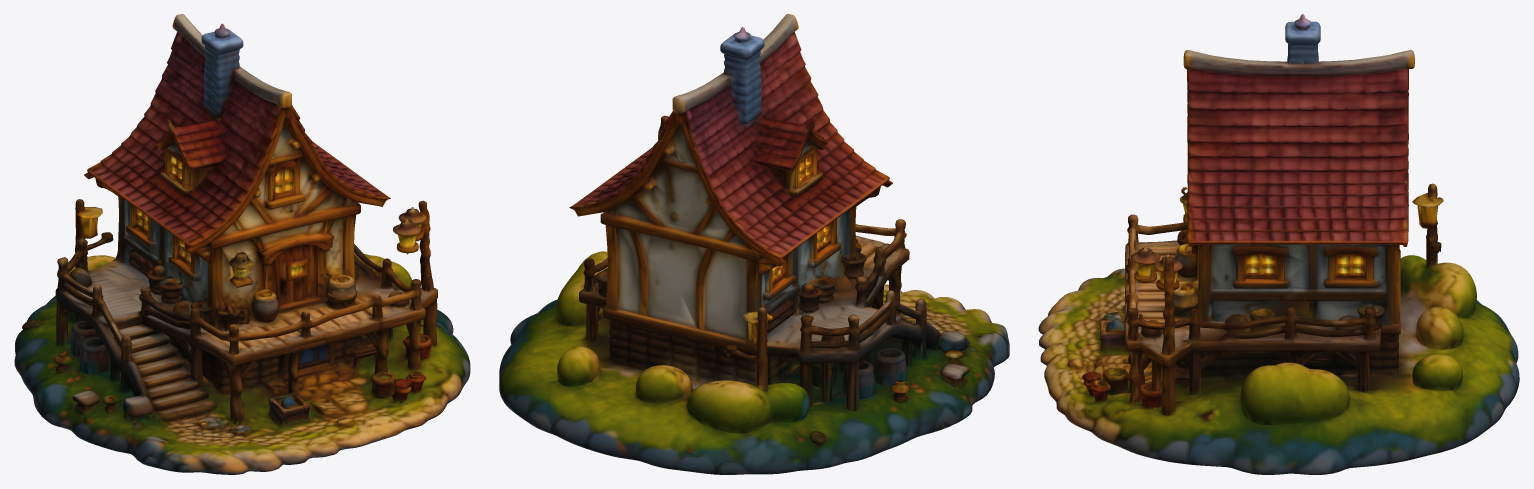
Rendered from fantasy-cottage.glb.
The picture shows the model from 3 angles, left to right: view 1: azimuth 30°, elevation 25°; view 2: azimuth 150°, elevation 25°; view 3: azimuth 270°, elevation 25°; orthographic projection. The views are drawn at different scales.
Parts seen in each view (by area): view 1: material; view 2: material; view 3: material.
Part boxes in pixels (box(x1,y1,x2,y2)): material: box(14, 14, 470, 474); material: box(499, 14, 1009, 474); material: box(1038, 14, 1519, 474).
Size of the model in its own units: 0.8844 by 0.7069 by 0.8705.
1 material, 1 textured.
